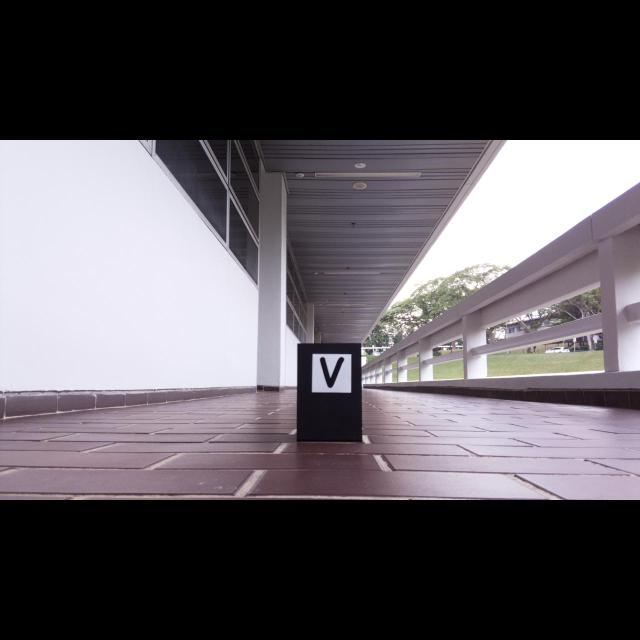V: (320, 357, 345, 388)
